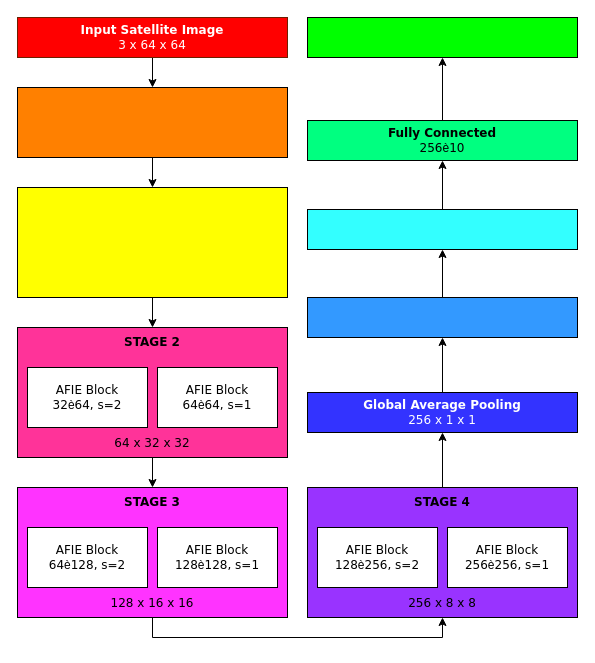
Some shapes in this 595 by 663 pixel diagram are drawn without their labels. Here are the shapes that lost their labels. From the top down, the centre of each, then its label:
[442,37]: EuroSAT Prediction 10 Classes
[152,122]: Stem Conv 3x3, 32, s=1 BN + GELU 32 x 64 x 64
[152,242]: STAGE 1 AFIE Block 32 è 32, s=1 32 x 64 x 64
[442,229]: Dropout (p=0.2)
[442,317]: Flatten 256
